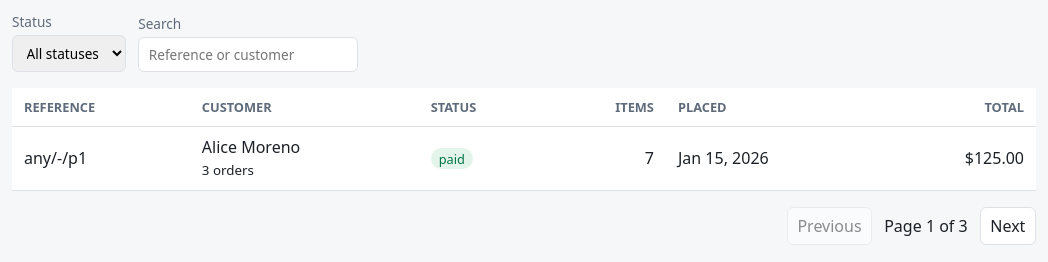
Test: OrdersTable › moves between pages
Expected: the text "any/-/p1" is shown, top-left (12, 126), bottom-right (190, 190)
Click the button "Next" at (1008, 226), box top-left (980, 207), bottom-right (1036, 245)
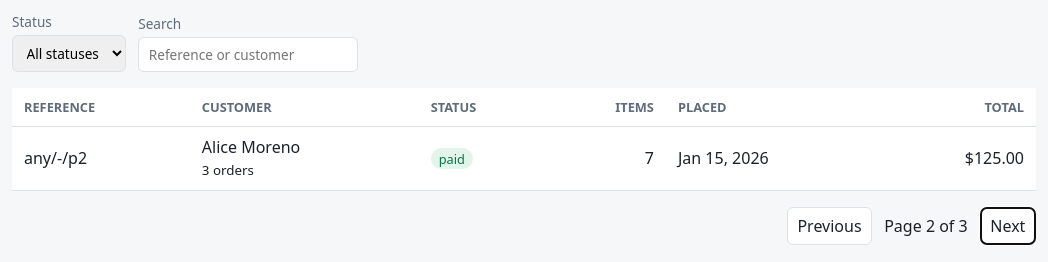
Expected: the text "any/-/p2" is shown, top-left (12, 126), bottom-right (190, 190)
Expected: the text "Page 2 of 3" is shown, top-left (884, 215), bottom-right (968, 237)
